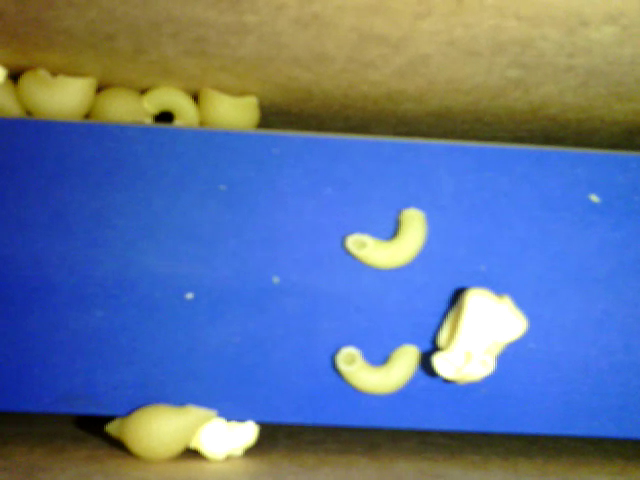elbow: (344, 207, 428, 271), (334, 344, 419, 394), (142, 86, 200, 127)
shell: (105, 403, 218, 462), (13, 66, 96, 120), (197, 84, 261, 127), (89, 87, 155, 123)
